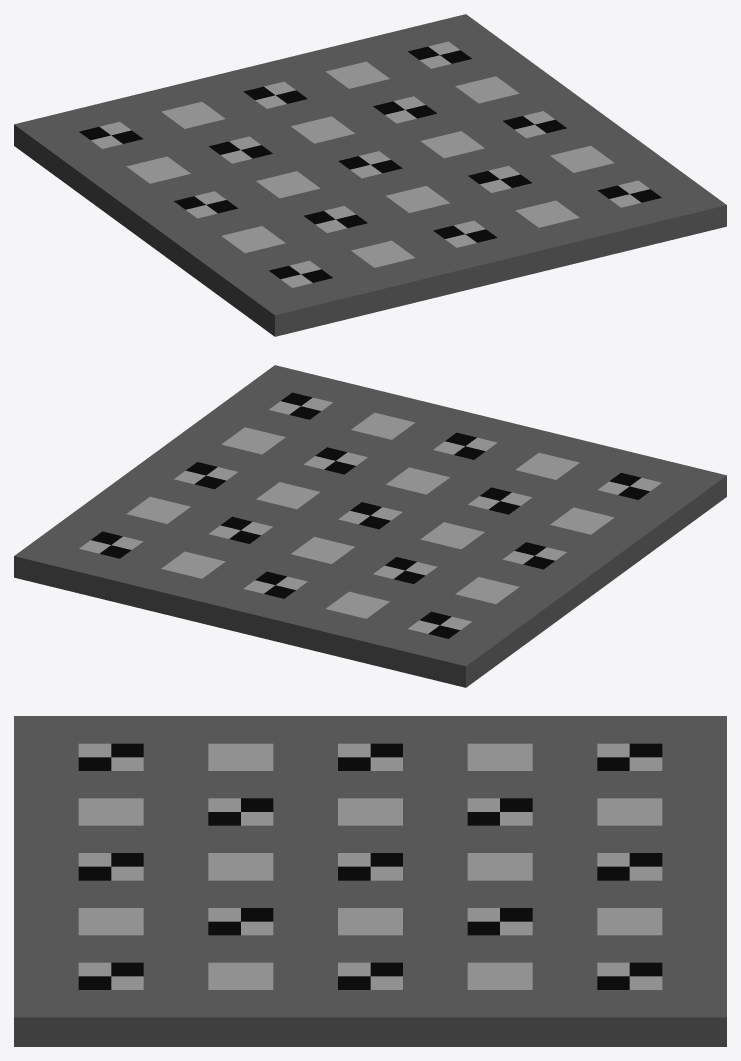
Rendered from level_one-10.obj.
3 views of the same model, one above another, from view 1: azimuth 30°, elevation 25°; view 2: azimuth 150°, elevation 25°; view 3: azimuth 270°, elevation 25° (orthographic). The views are drawn at different scales.
Parts seen in each view (by area): view 1: level_one-10; view 2: level_one-10; view 3: level_one-10.
Boxes of the visible parts, x1,y1,x2,y2 form: level_one-10: (14, 14, 726, 336); level_one-10: (14, 365, 726, 687); level_one-10: (14, 716, 726, 1046).
Bounding box in the file's own units: 22 × 1 × 22.
Materials: 1 (1 with a texture image).
